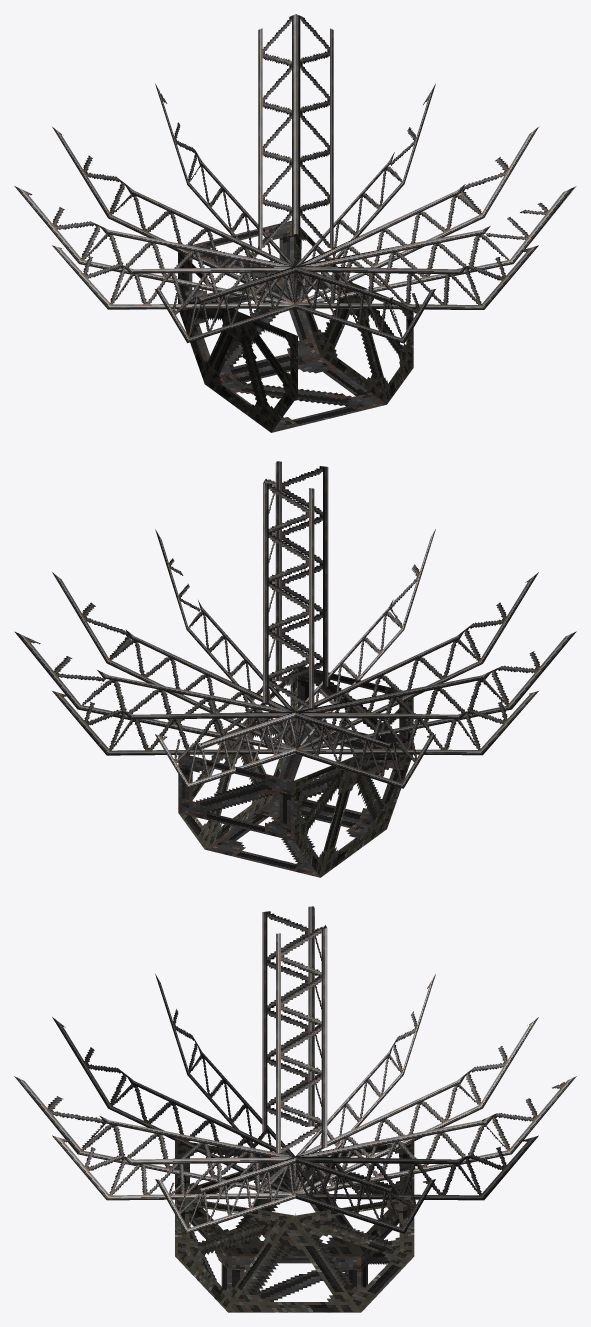
The model's file is secondary_063.glb.
The picture shows the model from 3 angles, top to bottom: view 1: azimuth 30°, elevation 25°; view 2: azimuth 150°, elevation 25°; view 3: azimuth 270°, elevation 25°; orthographic projection.
Visible parts, largest first — view 1: Object; view 2: Object; view 3: Object.
Part boxes in pixels (x1,y1,x2,y2): Object: [14, 14, 576, 432]; Object: [14, 461, 576, 877]; Object: [14, 906, 576, 1312].
Size of the model in its own units: 22.91 by 16.37 by 22.91.
10 materials, 10 textured.
